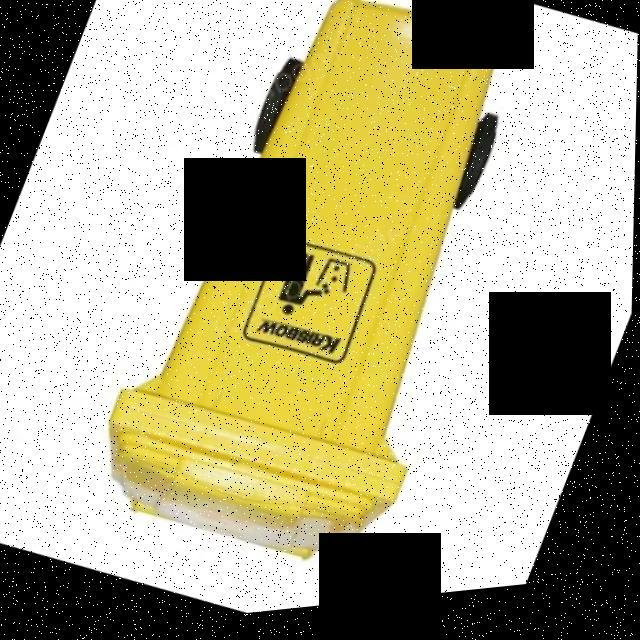bin: (51, 0, 603, 631)
